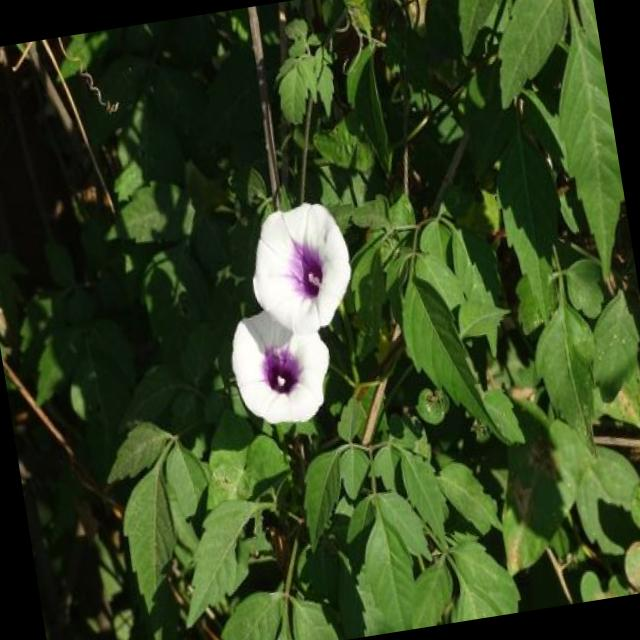ipomoea: (203, 192, 380, 438), (238, 193, 364, 344), (220, 298, 342, 437)
